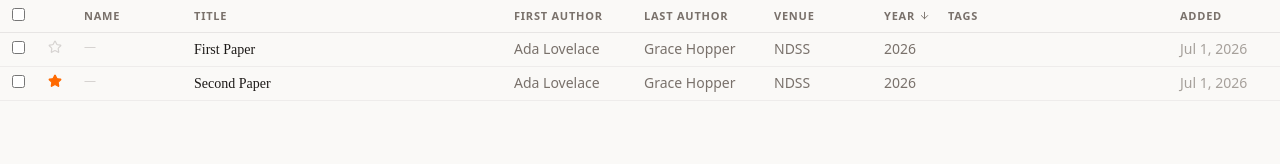
Test: LibraryTable › selecting rows shows the bulk bar; select-all and clear work
Step 1. Click the checkbox named "select first paper" → click(18, 48), box [12, 41, 25, 54]
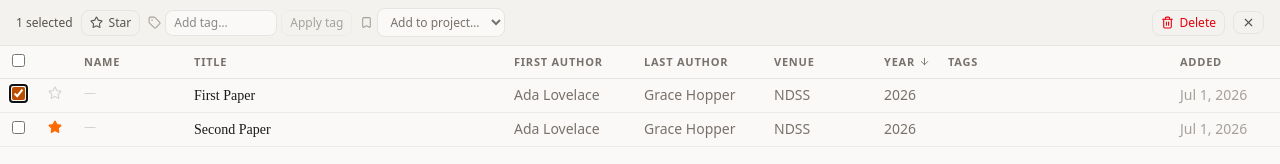
Check: the text "1 selected" is shown, box [16, 14, 73, 30]
Step 2. Click the checkbox named "select all" → click(18, 60), box [12, 54, 25, 67]
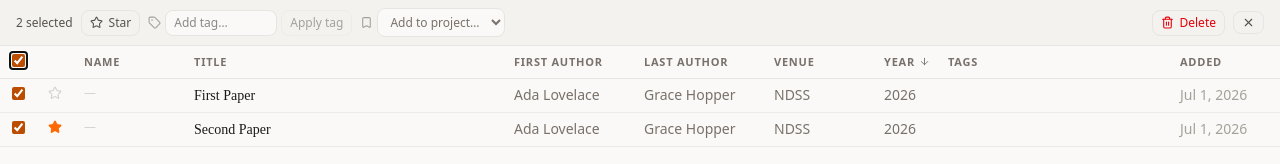
Check: the text "2 selected" is shown, box [16, 14, 73, 30]
Step 3. Click the button named "clear selection" → click(1248, 22), box [1233, 11, 1264, 34]
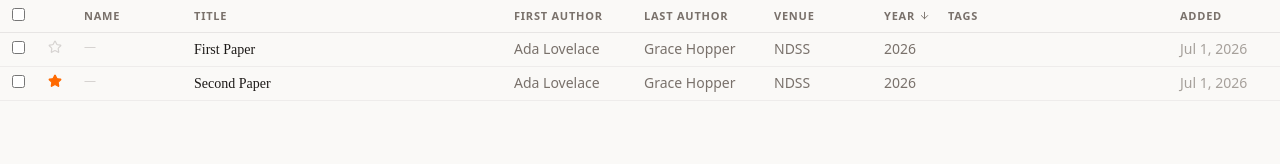
Check: the text "selected" is gone
